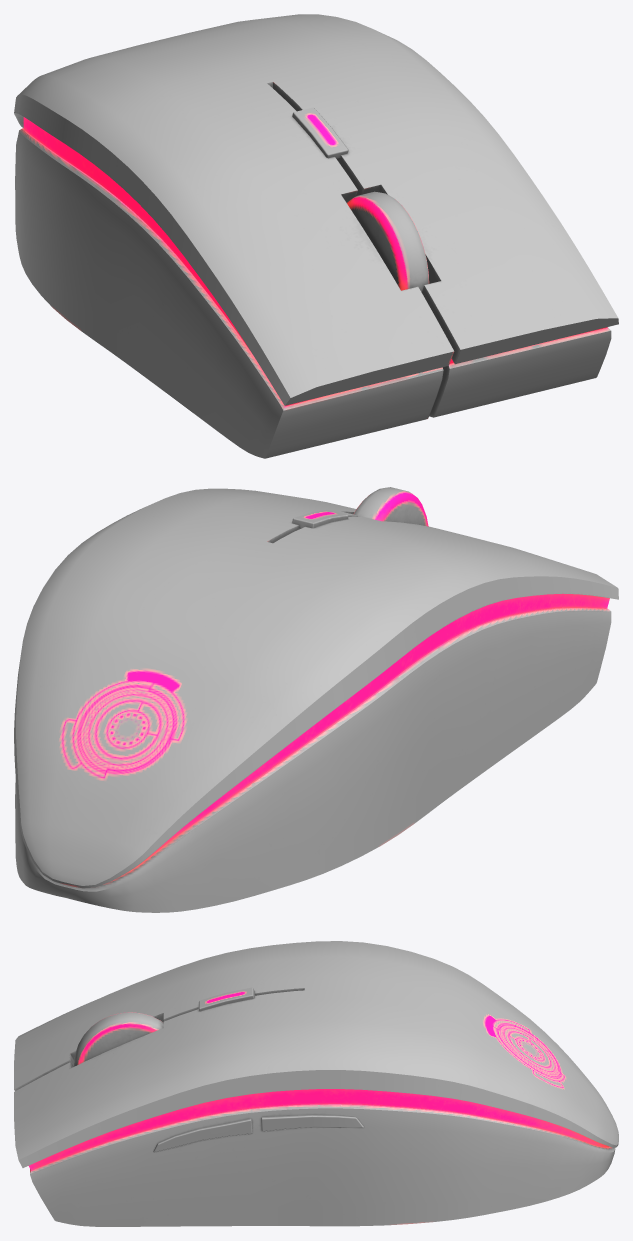
Rendered from SM_WhiteGamingMouse.fbx.
3 views of the same model, one above another, from view 1: azimuth 30°, elevation 25°; view 2: azimuth 150°, elevation 25°; view 3: azimuth 270°, elevation 25° (orthographic). The views are drawn at different scales.
Visible parts, largest first — view 1: SM_WhiteGamingMouse_LOD0; view 2: SM_WhiteGamingMouse_LOD0; view 3: SM_WhiteGamingMouse_LOD0.
Part boxes in pixels (x1,y1,x2,y2): SM_WhiteGamingMouse_LOD0: (14, 14, 618, 458); SM_WhiteGamingMouse_LOD0: (14, 487, 618, 912); SM_WhiteGamingMouse_LOD0: (14, 941, 618, 1226).
Size of the model in its own units: 4.99 by 10.03 by 3.23.
Materials: 1 (1 with a texture image).
